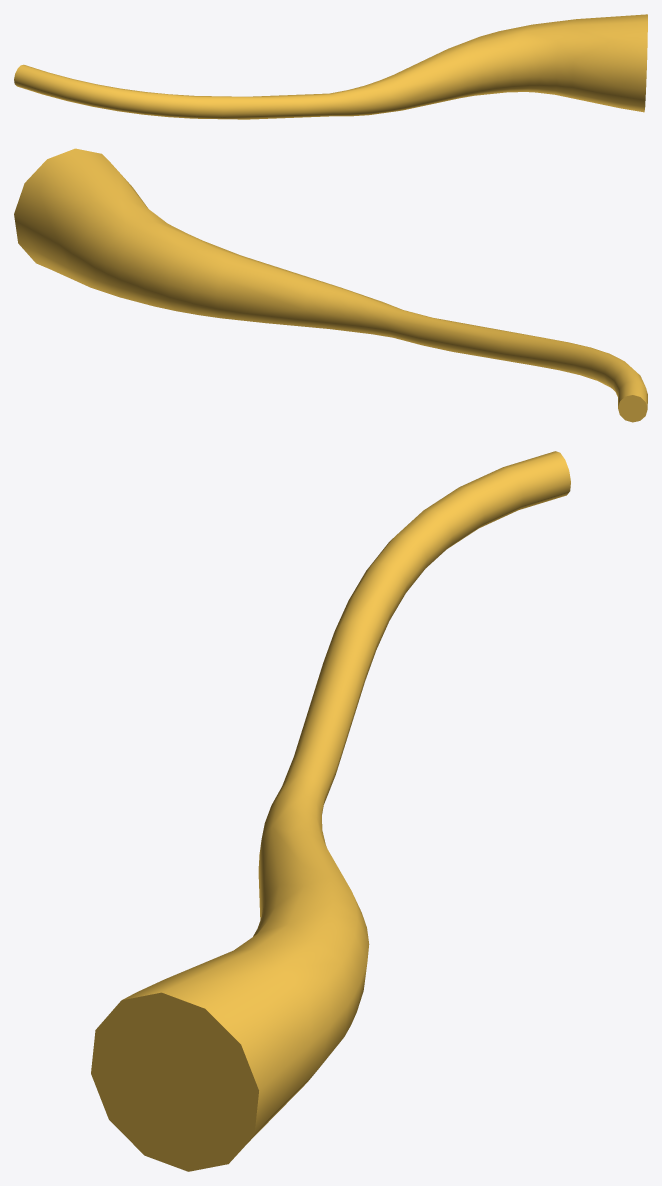
Rendered from nervoso-cochlear-nerve-l.glb.
3 renders of one model, top to bottom at view 1: azimuth 30°, elevation 25°; view 2: azimuth 150°, elevation 25°; view 3: azimuth 270°, elevation 25°, orthographic. The views are drawn at different scales.
Visible parts, largest first — view 1: Cochlear nerve.l; view 2: Cochlear nerve.l; view 3: Cochlear nerve.l.
Boxes of the visible parts, x1,y1,x2,y2 form: Cochlear nerve.l: (14, 14, 647, 119); Cochlear nerve.l: (14, 148, 647, 422); Cochlear nerve.l: (91, 451, 570, 1171).
Bounding box in the file's own units: 0.0197 × 0.00339 × 0.00733.
